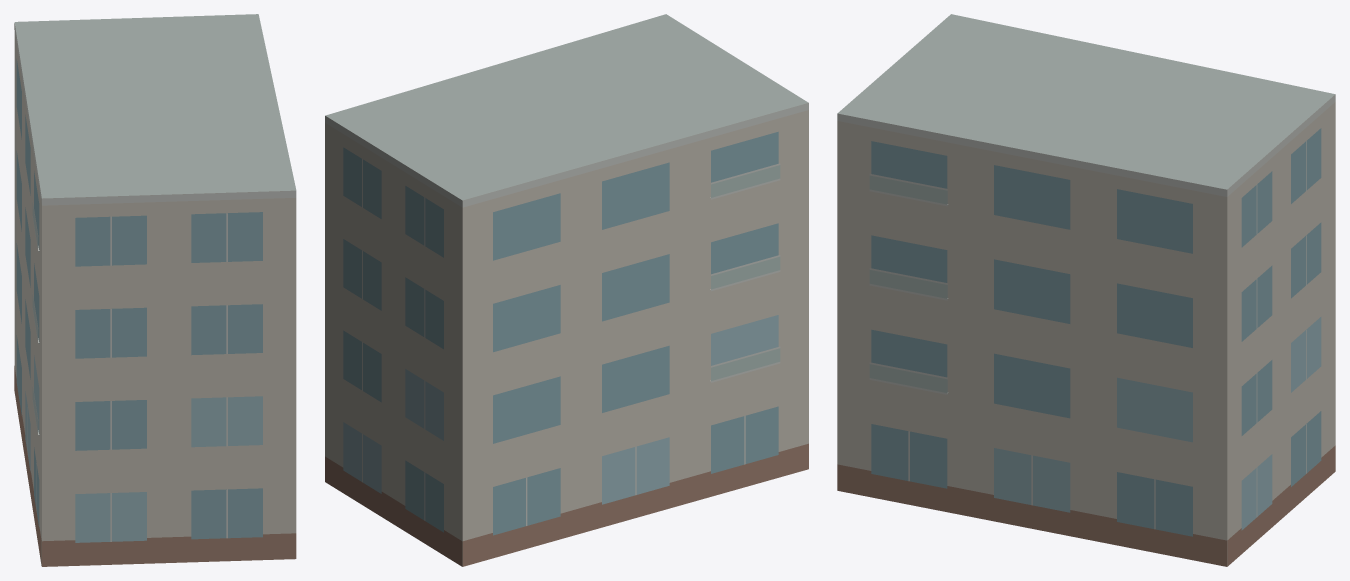
Rendered from survey-upis-33031659.glb.
3 renders of one model, left to right at view 1: azimuth 30°, elevation 25°; view 2: azimuth 150°, elevation 25°; view 3: azimuth 270°, elevation 25°, orthographic. The views are drawn at different scales.
Parts seen in each view (by area): view 1: survey-upis-33031659.tmp; view 2: survey-upis-33031659.tmp; view 3: survey-upis-33031659.tmp.
Part boxes in pixels (x1,y1,x2,y2): survey-upis-33031659.tmp: [14, 14, 296, 566]; survey-upis-33031659.tmp: [325, 14, 808, 566]; survey-upis-33031659.tmp: [837, 14, 1335, 566].
Size of the model in its own units: 12.5 by 12.5 by 14.98.
